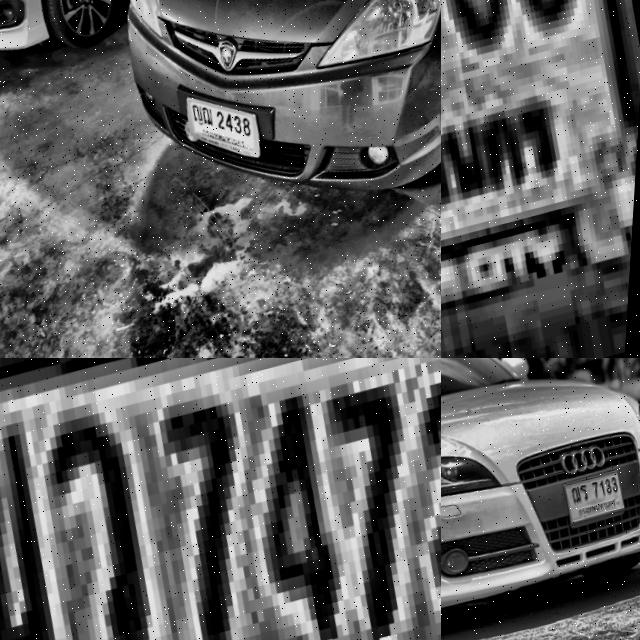license-plate: (0, 358, 441, 640), (441, 0, 640, 358), (181, 82, 270, 179), (565, 470, 636, 528)
